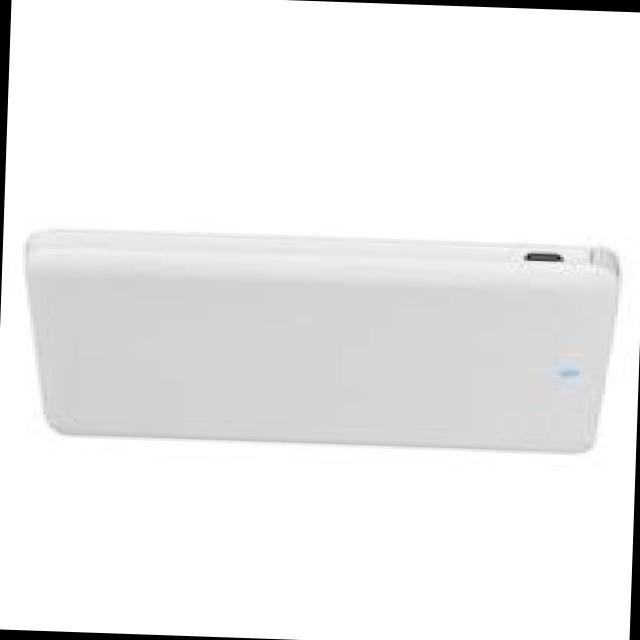portable-charger: (12, 220, 624, 458)
